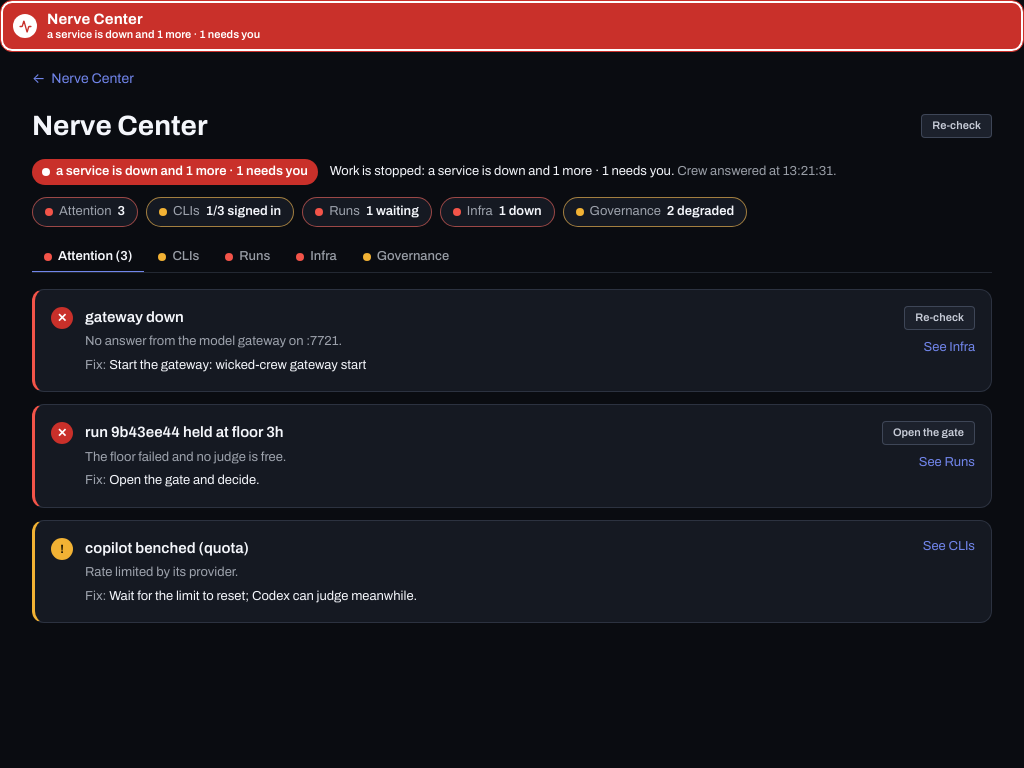
against a crew with the system snapshot › the summary chips count each area and are coloured by its worst state; a chip opens its tab
This screenshot has width=1024, height=768.
Click the button with test id "nc-chip" showing "Infra 1 down" at (497, 212), box [440, 196, 555, 226]
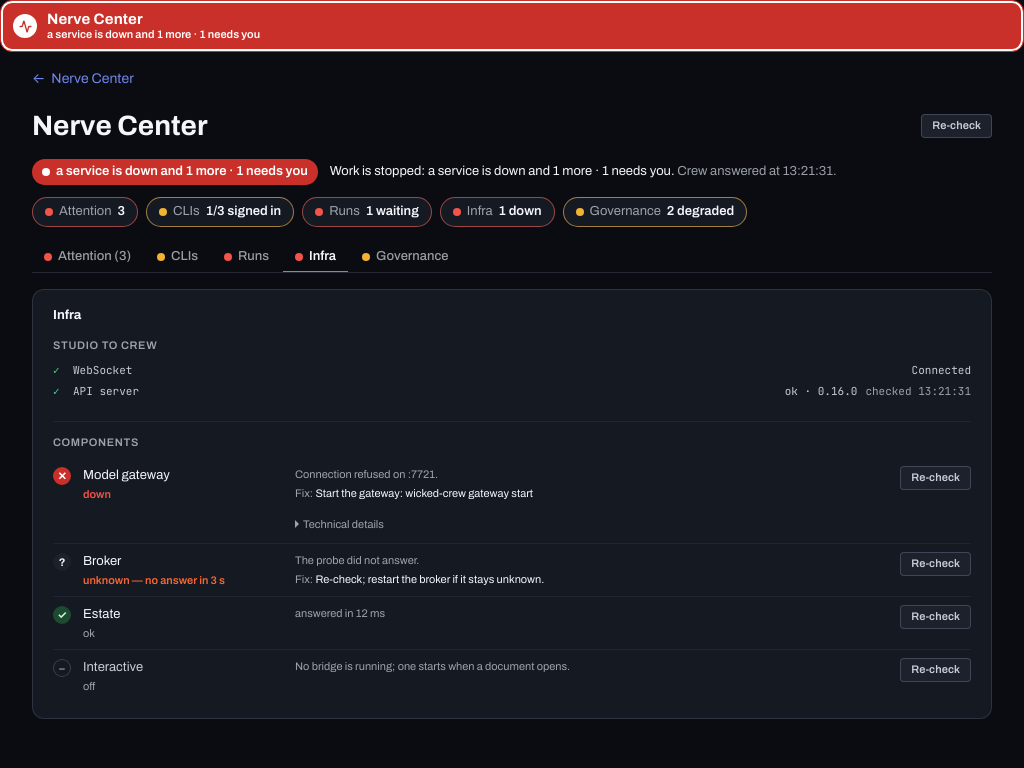
Result: the number of list items with test id "nc-infra" is 4 at [53, 458, 971, 544]; [53, 544, 971, 597]; [53, 597, 971, 650]; [53, 650, 971, 702]
